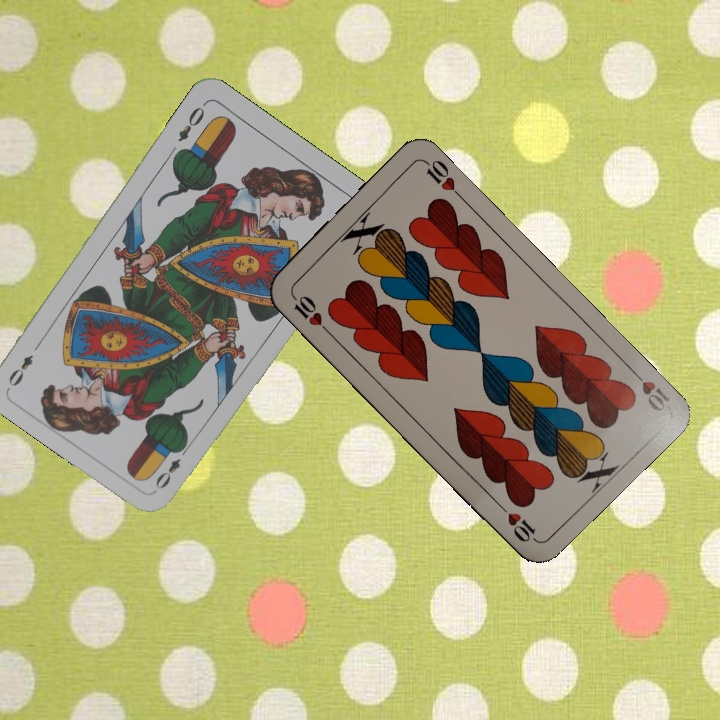EO: (151, 441, 192, 492), (174, 102, 208, 145)
H10: (625, 363, 672, 416), (287, 290, 333, 336)
